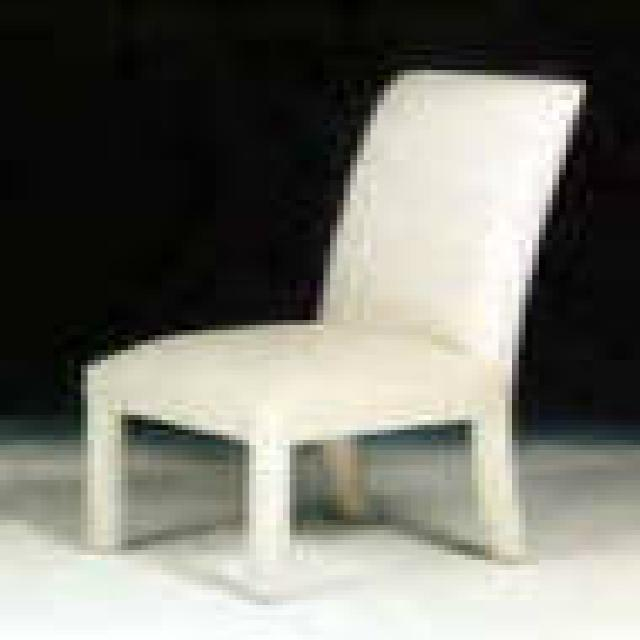chair: (74, 65, 586, 595)
